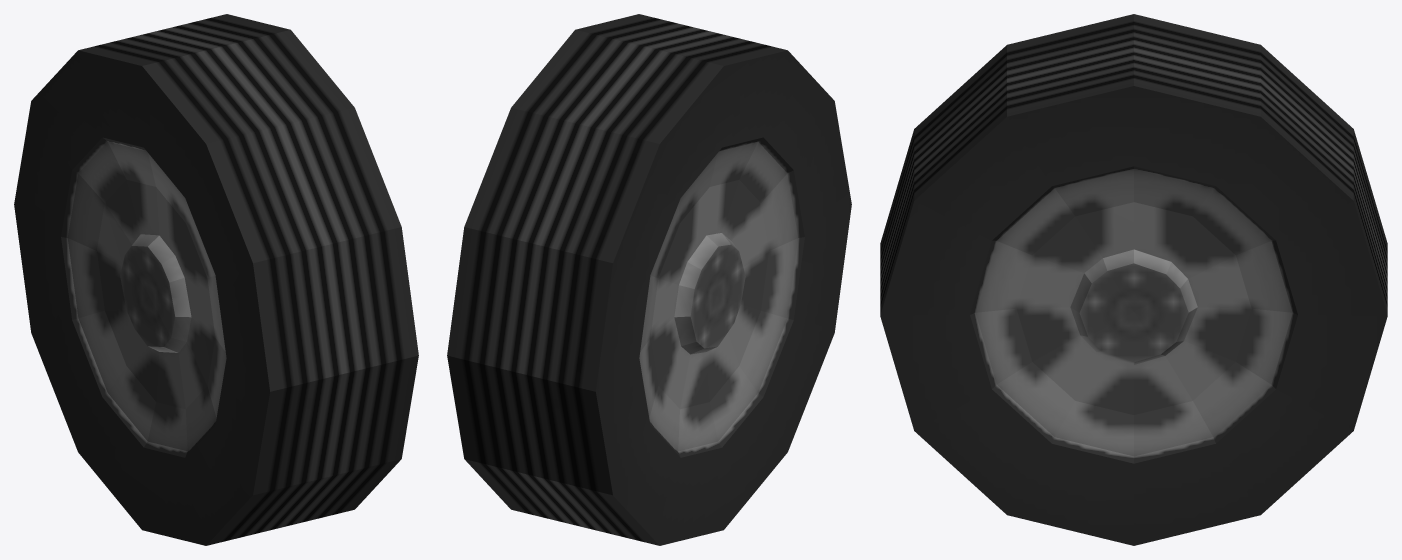
File: HopperWheelA.fbx
3 renders of one model, left to right at view 1: azimuth 30°, elevation 25°; view 2: azimuth 150°, elevation 25°; view 3: azimuth 270°, elevation 25°, orthographic.
Visible parts, largest first — view 1: HopperWheelA; view 2: HopperWheelA; view 3: HopperWheelA.
Part boxes in pixels (x1,y1,x2,y2): HopperWheelA: (14,14,418,545); HopperWheelA: (447,14,851,545); HopperWheelA: (880,14,1387,545).
Size of the model in its own units: 0.3006 by 0.8962 by 0.8962.
